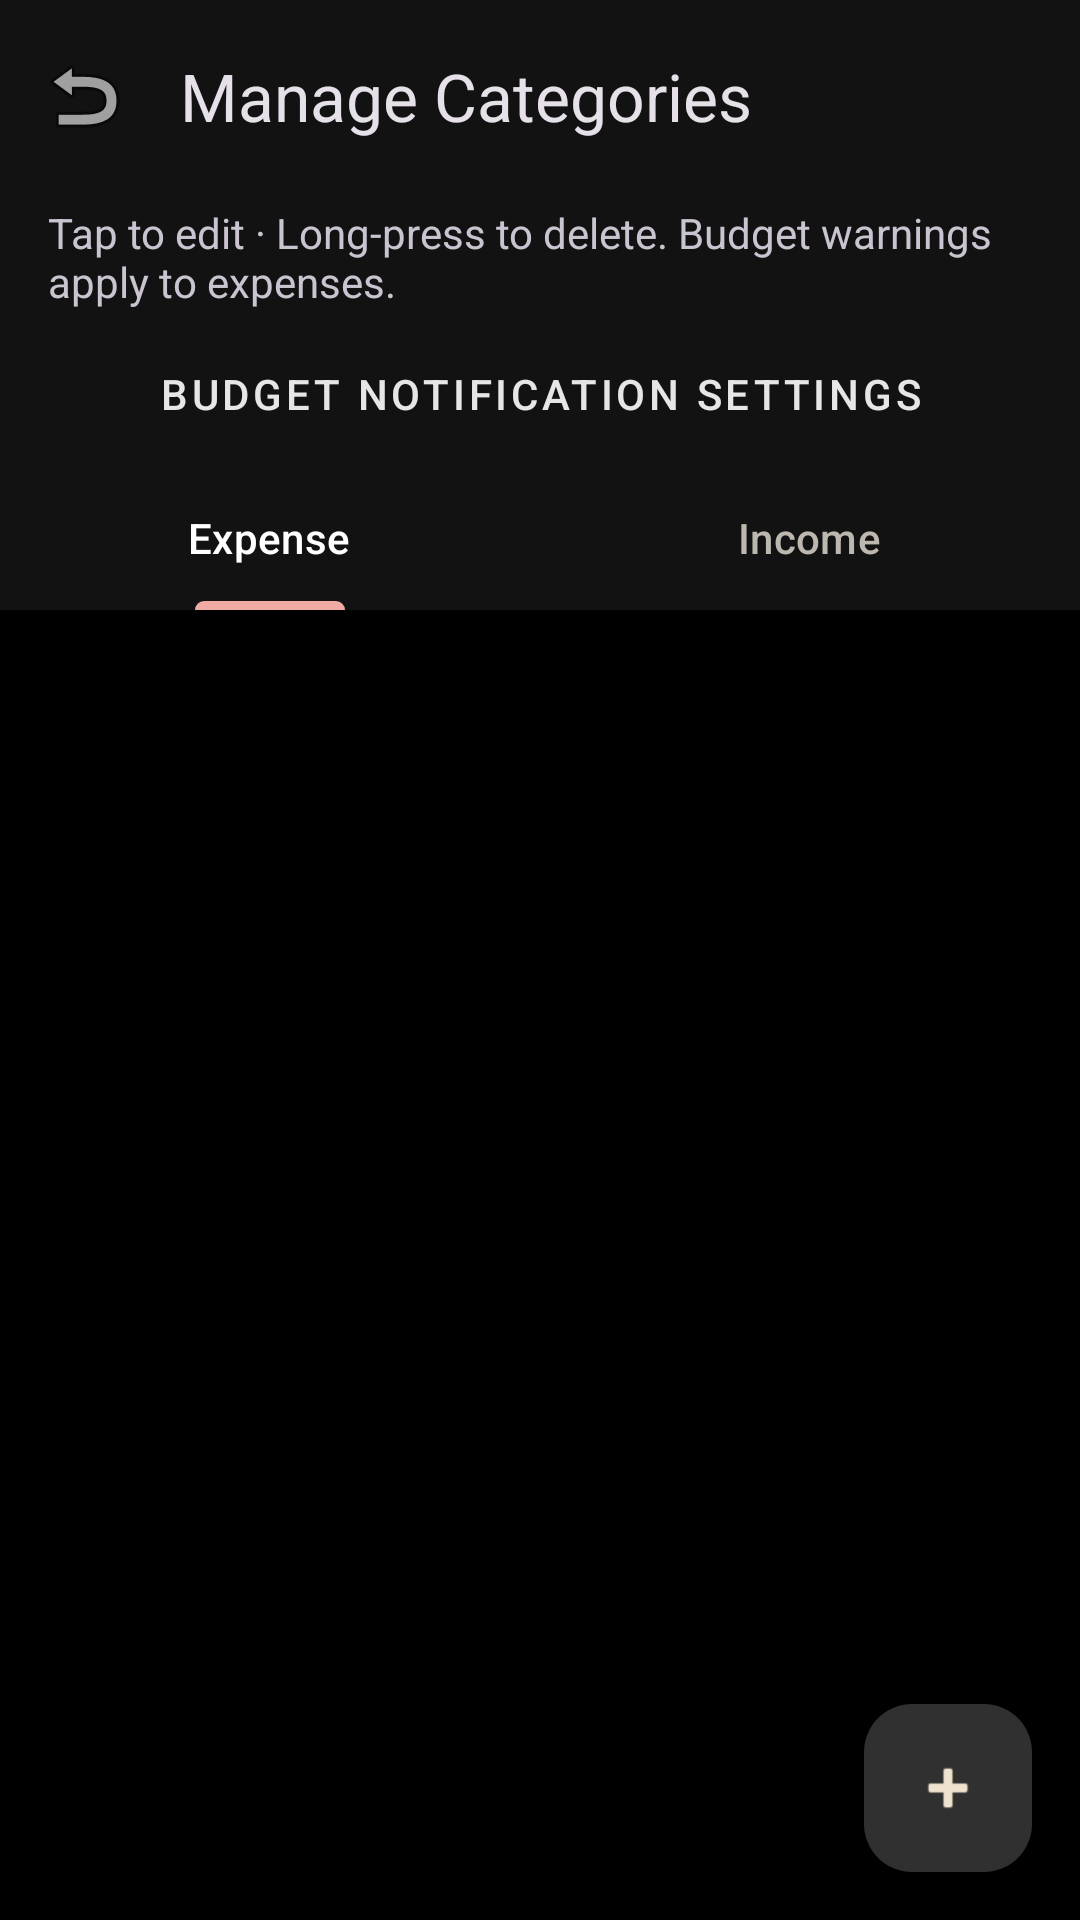

Where icons sit on this 1080*1920 app screen, as (x1, y1, x2, y2):
Add new category: (864, 1704, 1032, 1872)
